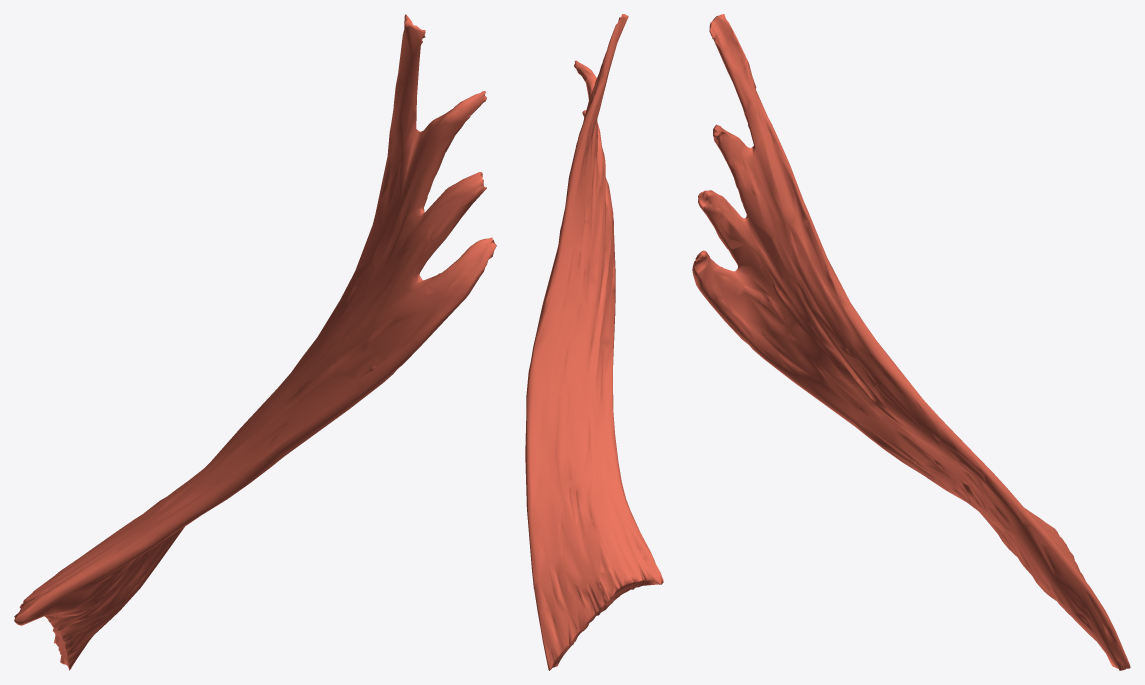
File: levator-scapulae.glb
3 views of the same model, side by side, from view 1: azimuth 30°, elevation 25°; view 2: azimuth 150°, elevation 25°; view 3: azimuth 270°, elevation 25° (orthographic). The views are drawn at different scales.
Visible parts, largest first — view 1: Levator scapulae.r; view 2: Levator scapulae.r; view 3: Levator scapulae.r.
Boxes of the visible parts, x1,y1,x2,y2 form: Levator scapulae.r: [14, 14, 496, 670]; Levator scapulae.r: [525, 14, 663, 670]; Levator scapulae.r: [692, 14, 1130, 670].
Size of the model in its own units: 0.0614 by 0.1529 by 0.0859.
